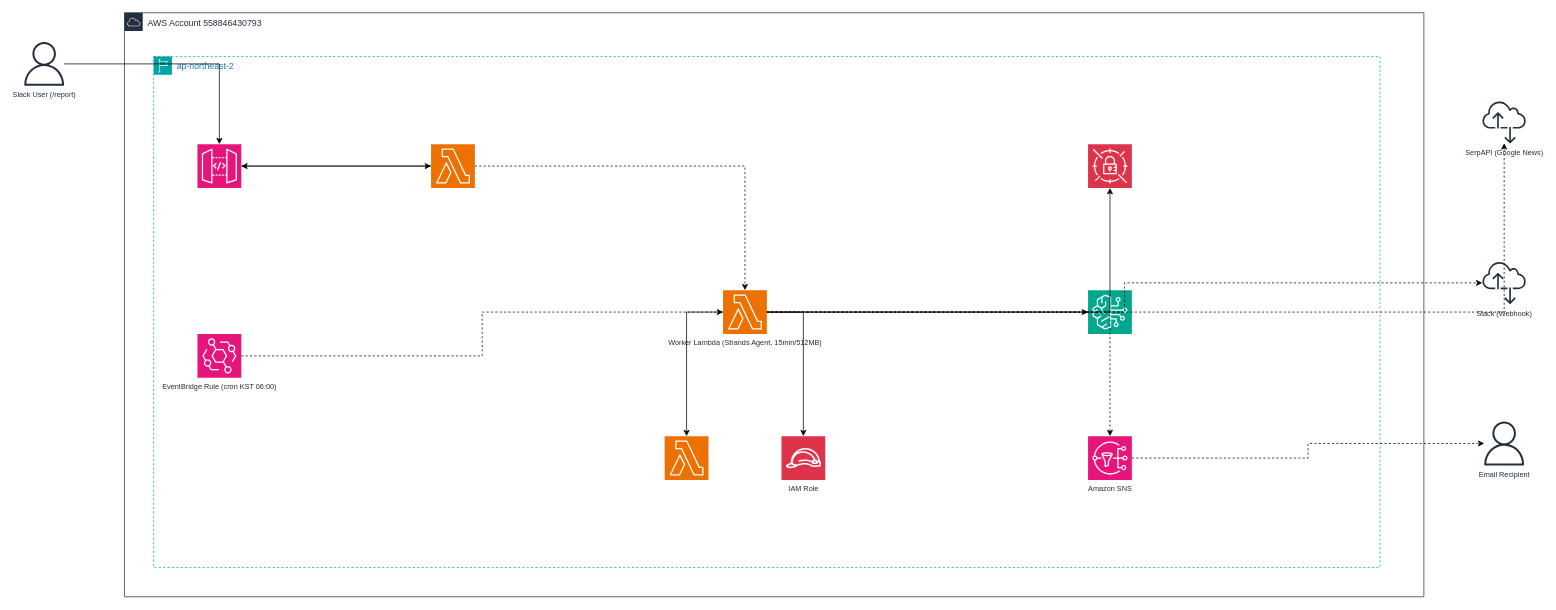
The diagram is 1556 pixels wide and 610 high, and some of its shapes have lost their labels. The shapes that lost their labels are listed below. From the top down, each one's box as (x1, y1, x2, y2) in pixels, then its label:
(197, 143, 241, 188): API Gateway HTTP API (throttle 5 r/s)
(430, 143, 475, 188): Trigger Lambda (HMAC verify, 10s)
(1087, 143, 1132, 188): Secrets Manager
(1087, 289, 1132, 334): Bedrock Claude Sonnet 4
(664, 435, 708, 480): Lambda Layer (deps)
